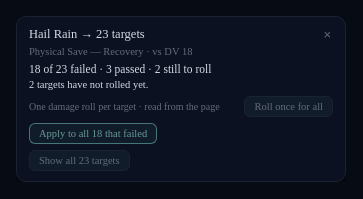
Test: VttResolutionCard with many targets on one card › will not send the same hit twice when the act is pressed twice
The width and height of the screenshot is (363, 199).
What coordinates should you click on to do the following:
click the button "Apply to all 18 that failed"
I would click on:
 (93, 134)
Its box is [29,123,157,144].
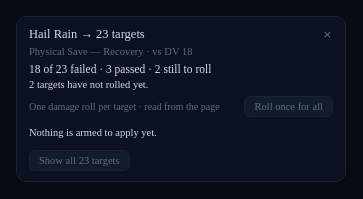
Now the text "Nothing is armed to apply yet" is shown, box [29,127,157,138]
